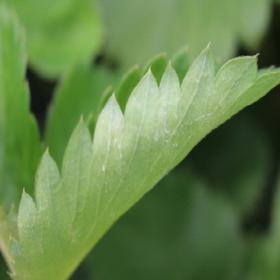Powdery Mildew Leaf: (0, 40, 279, 279)
